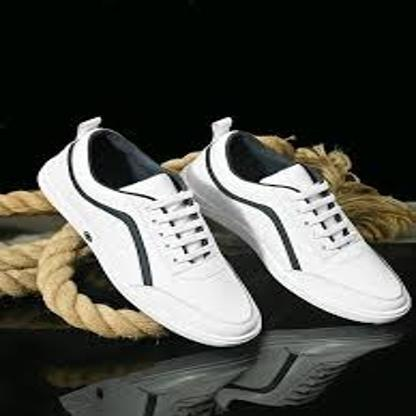not trash: (36, 117, 263, 351), (175, 116, 411, 336)
